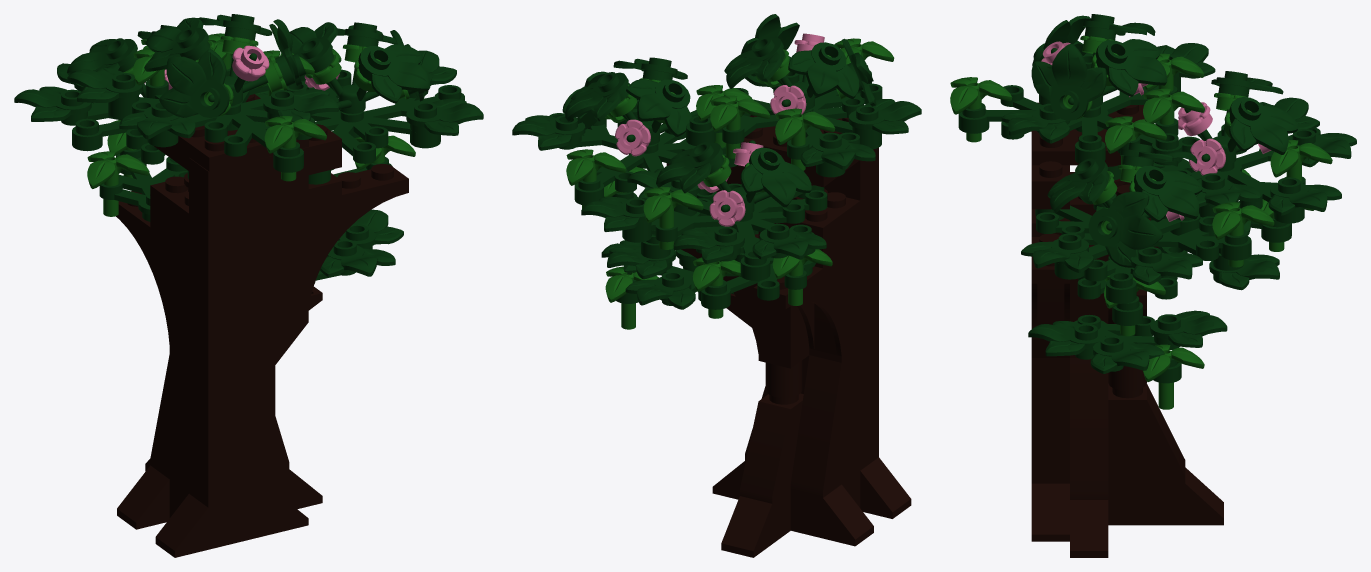
File: tree.obj
The picture shows the model from 3 angles, left to right: view 1: azimuth 30°, elevation 25°; view 2: azimuth 150°, elevation 25°; view 3: azimuth 270°, elevation 25°; orthographic projection. The views are drawn at different scales.
Size of the model in its own units: 222 by 282 by 211.
